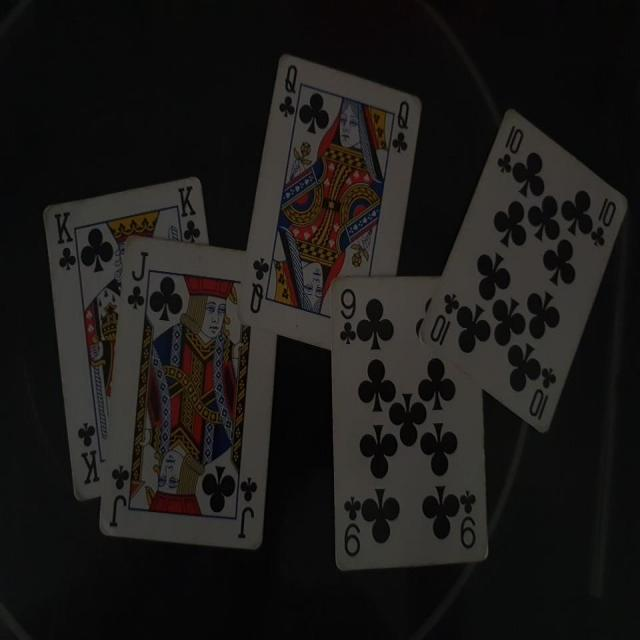10 Trefoils: (416, 108, 626, 436)
9 Trefoils: (329, 273, 492, 572)
J Trefoils: (97, 236, 276, 554)
K Trefoils: (43, 174, 209, 503)
Q Trefoils: (233, 53, 421, 350)
